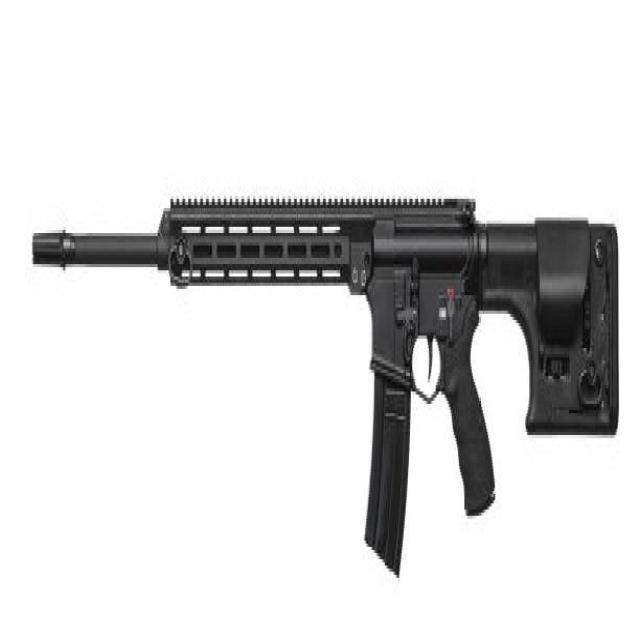rifle: (31, 176, 625, 593)
